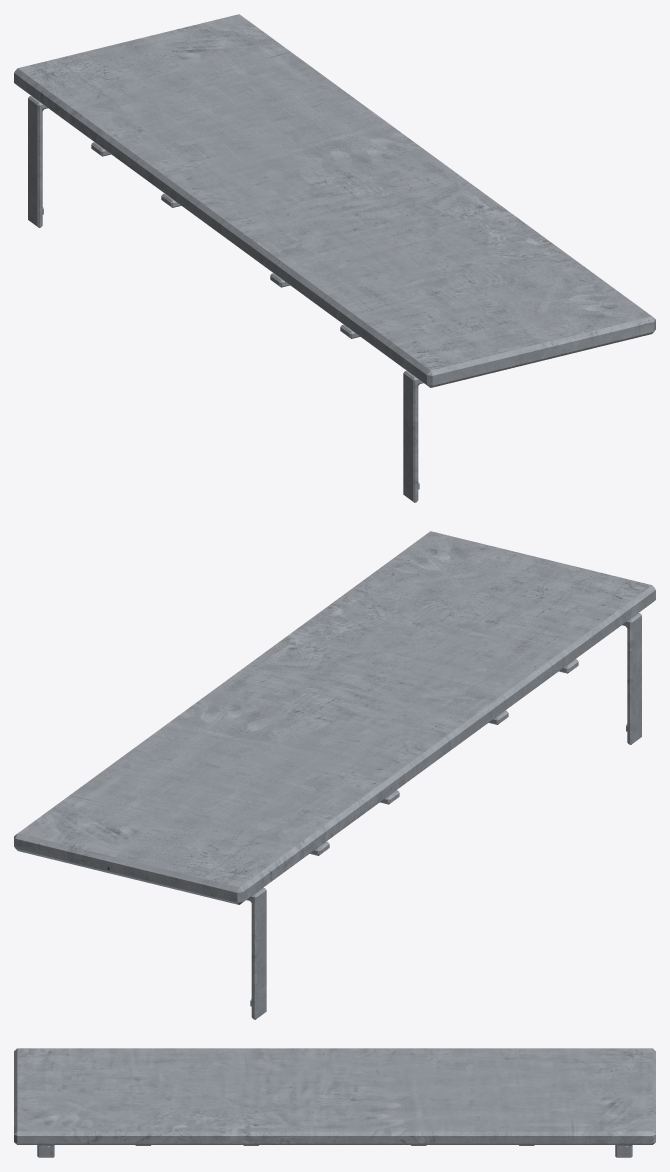
The model's file is Prop_Motorcycle_WallPlatform.fbx.
The picture shows the model from 3 angles, top to bottom: view 1: azimuth 30°, elevation 25°; view 2: azimuth 150°, elevation 25°; view 3: azimuth 270°, elevation 25°; orthographic projection. The views are drawn at different scales.
Parts seen in each view (by area): view 1: Prop_Motorcycle_WallPlatform; view 2: Prop_Motorcycle_WallPlatform; view 3: Prop_Motorcycle_WallPlatform.
Boxes of the visible parts, box(x1,y1,x2,y2) form: Prop_Motorcycle_WallPlatform: box(14, 14, 655, 502); Prop_Motorcycle_WallPlatform: box(14, 531, 655, 1019); Prop_Motorcycle_WallPlatform: box(14, 1048, 655, 1157).
Size of the model in its own units: 32.39 by 19.2 by 102.
